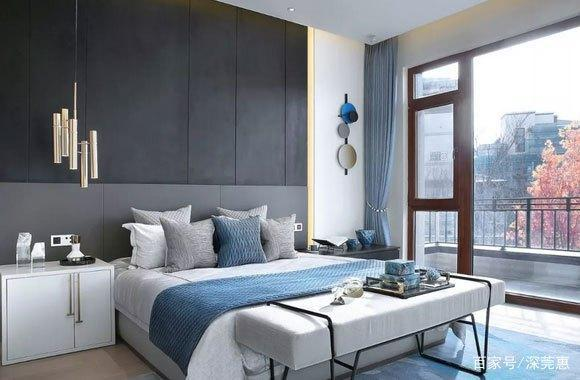床: (115, 256, 469, 378)
枕头: (128, 204, 299, 267)
灯: (47, 108, 106, 190), (281, 6, 299, 18)
